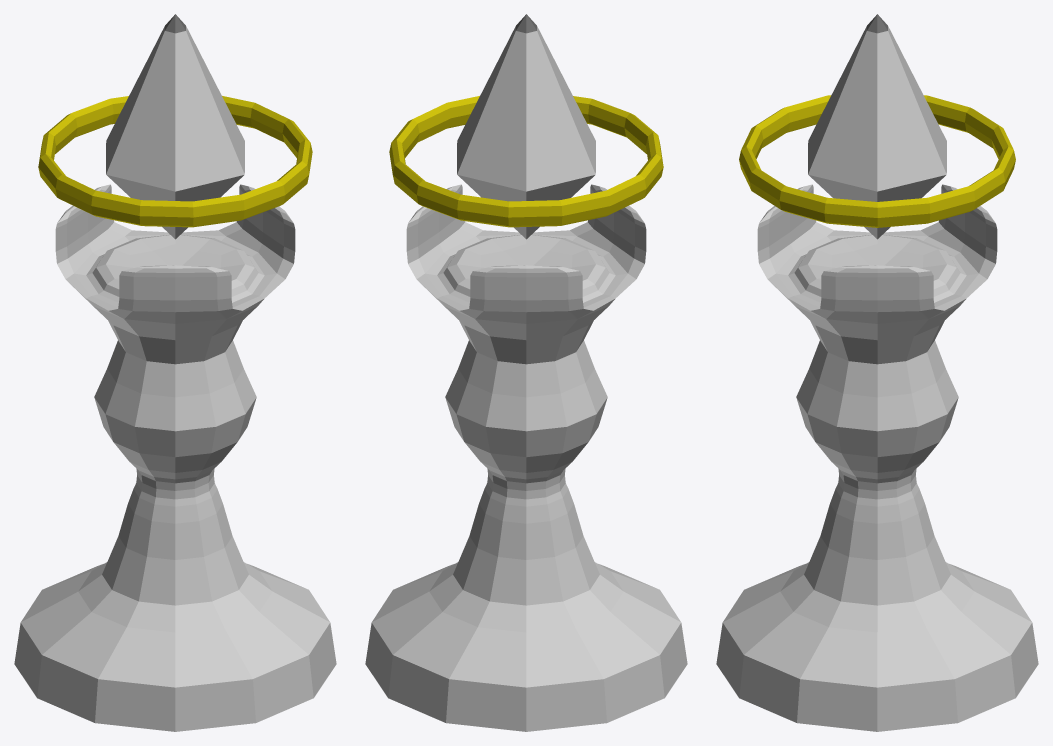
Rendered from Lamp.fbx.
3 views of the same model, side by side, from view 1: azimuth 30°, elevation 25°; view 2: azimuth 150°, elevation 25°; view 3: azimuth 270°, elevation 25° (orthographic).
Visible parts, largest first — view 1: Post (×4); view 2: Post (×4); view 3: Post (×4).
Part boxes in pixels (bbox=[...]): Post (×4): bbox=[14, 26, 336, 731]; Post (×4): bbox=[365, 26, 687, 731]; Post (×4): bbox=[716, 26, 1038, 731].
Bounding box in the file's own units: 319 × 717 × 322.
